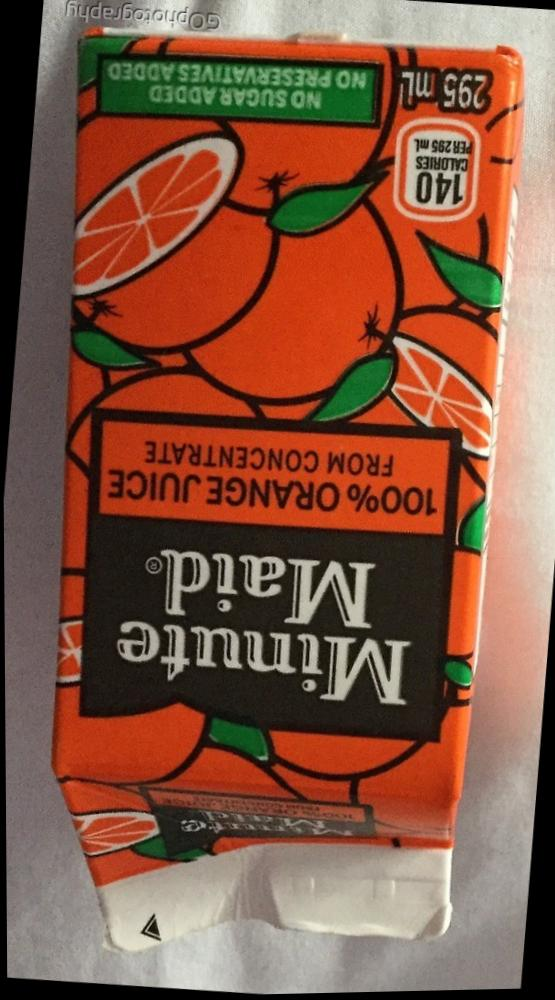cardboard: (6, 0, 554, 999)
metal: (7, 0, 554, 999)
